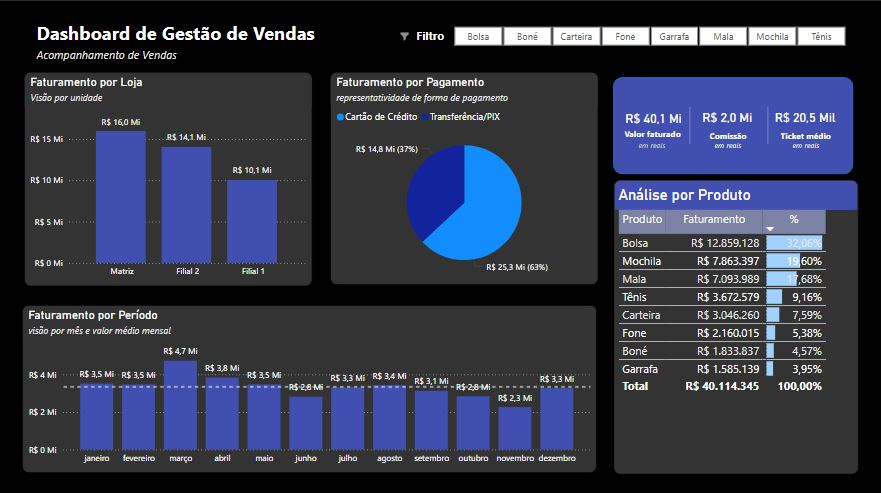

The dashboard page shown, as its layout file describes it:
{"tool":"powerbi","page":{"name":"Gestão de Vendas","canvas":[1280,720],"ordinal":0},"visuals":[{"type":"clusteredColumnChart","title":"Faturamento por Período ","fields":{"Y":["Sum(registroVendas.Valor Venda)"],"Category":["registroVendas.Data Pedido.Variation.Hierarquia de datas.Mês"]},"box":[36,439.3,831.3,243.3],"z":0},{"type":"pieChart","title":"Faturamento por Pagamento","fields":{"Y":["Sum(registroVendas.Valor Venda)"],"Category":["registroVendas.Pagamento"]},"box":[481.7,103.3,388.3,308.3],"z":1000},{"type":"clusteredColumnChart","title":"Faturamento por Loja","fields":{"Y":["Sum(registroVendas.Valor Venda)"],"Category":["lojas.nome_loja"]},"box":[38.3,103.3,416.7,310],"z":2000},{"type":"tableEx","title":"Análise por Produto","fields":{"Values":["registroVendas.Produto","Sum(registroVendas.Valor Venda)","Divide(Sum(registroVendas.Valor Venda), ScopedEval(Sum(registroVendas.Valor Venda), []))"]},"box":[891.7,258.3,353.3,425],"z":3000},{"type":"slicer","title":"Filtros","fields":{"Values":["registroVendas.Produto"]},"box":[640,31,605,40],"z":4000},{"type":"textbox","box":[51.7,21.7,445,58.3],"z":5000},{"type":"textbox","box":[51.7,61.7,225,40],"z":6000},{"type":"image","box":[576.2,37.5,25,26.2],"z":7000},{"type":"textbox","box":[601.2,35,78.8,31.2],"z":8000},{"type":"shape","box":[891.2,109.4,347.5,140.6],"z":9000},{"type":"card","fields":{"Values":["Sum(registroVendas.Valor Venda)"]},"box":[902.3,148.3,94.2,41.7],"z":10000},{"type":"card","fields":{"Values":["Avg(registroVendas.Valor Venda)"]},"box":[1115.4,129.8,107.3,78.2],"z":11000},{"type":"textbox","box":[922.1,193.2,67.3,32],"z":12000},{"type":"textbox","box":[1032.4,193.9,61,29],"z":13000},{"type":"textbox","box":[1144.8,193.9,61,29],"z":14000},{"type":"textbox","box":[902.5,177.5,120,45.8],"z":15000},{"type":"textbox","box":[1024.8,180.1,75.7,29],"z":16000},{"type":"textbox","box":[1127.2,181.1,95.7,28.6],"z":17000},{"type":"card","fields":{"Values":["lojas.comissao"]},"box":[996.1,136.5,119,66],"z":18000},{"type":"shape","box":[949.4,153.1,103.8,53.8],"z":19000},{"type":"shape","box":[1063.1,153.1,103.8,53.8],"z":20000}]}

Visuals, with their boxes in screenshot pixels (x1, y1, x2, y2), scaled from the page's 1280x720 canvas onto the 881x493 screenshot:
"Faturamento por Período " clusteredColumnChart: Rect(25, 301, 597, 467)
"Faturamento por Pagamento" pieChart: Rect(332, 71, 599, 282)
"Faturamento por Loja" clusteredColumnChart: Rect(26, 71, 313, 283)
"Análise por Produto" tableEx: Rect(614, 177, 857, 468)
"Filtros" slicer: Rect(440, 21, 857, 49)
textbox: Rect(36, 15, 342, 55)
textbox: Rect(36, 42, 190, 70)
image: Rect(397, 26, 414, 44)
textbox: Rect(414, 24, 468, 45)
shape: Rect(613, 75, 853, 171)
card - Sum(registroVendas.Valor Venda): Rect(621, 102, 686, 130)
card - Avg(registroVendas.Valor Venda): Rect(768, 89, 842, 142)
textbox: Rect(635, 132, 681, 154)
textbox: Rect(711, 133, 753, 153)
textbox: Rect(788, 133, 830, 153)
textbox: Rect(621, 122, 704, 153)
textbox: Rect(705, 123, 757, 143)
textbox: Rect(776, 124, 842, 144)
card - lojas.comissao: Rect(686, 93, 768, 139)
shape: Rect(653, 105, 725, 142)
shape: Rect(732, 105, 803, 142)
